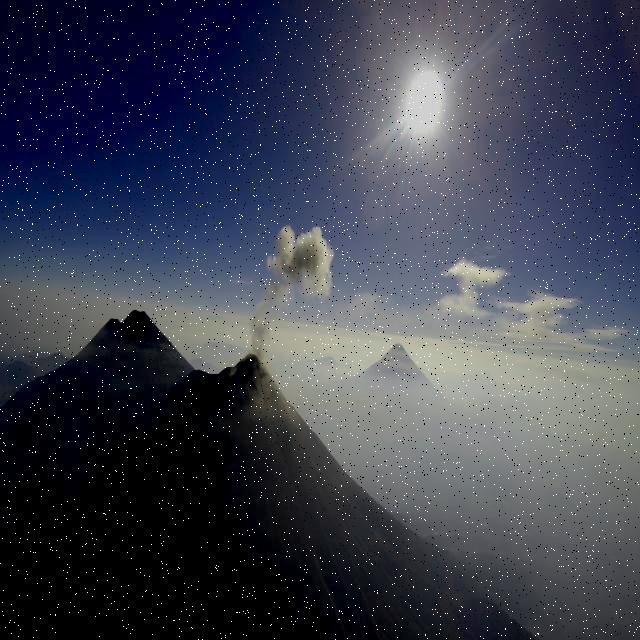Plume: (248, 216, 342, 354)
Summit: (156, 350, 278, 416)
